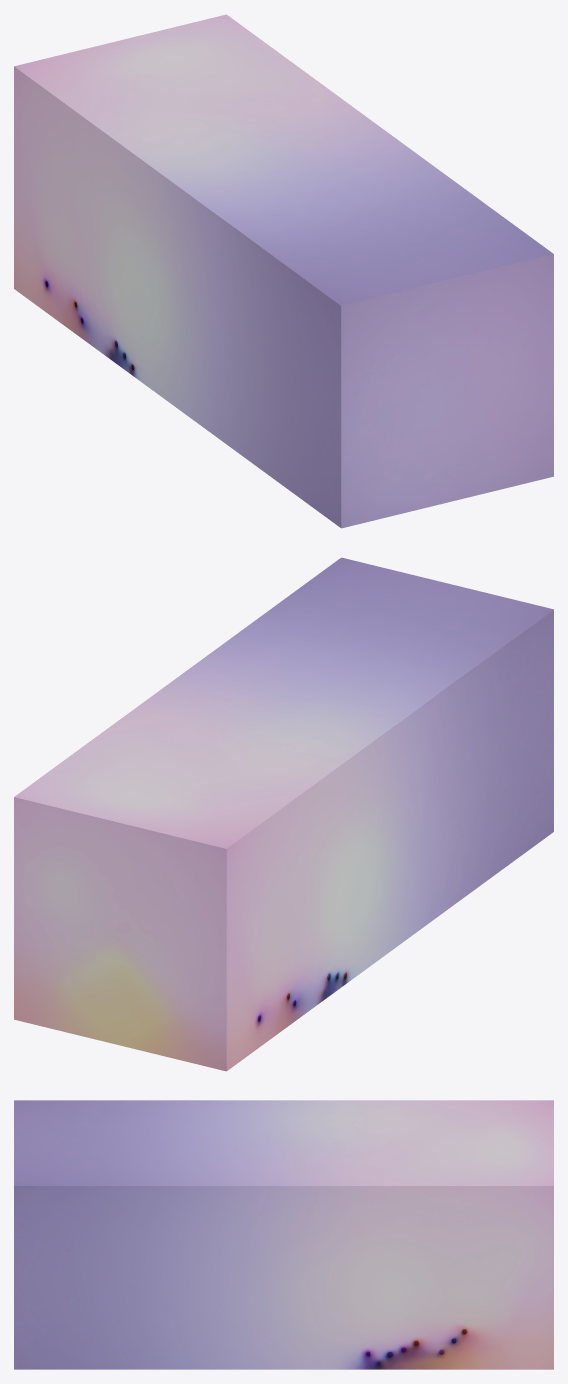
Rendered from Gacha.gltf.
3 views of the same model, one above another, from view 1: azimuth 30°, elevation 25°; view 2: azimuth 150°, elevation 25°; view 3: azimuth 270°, elevation 25° (orthographic). The views are drawn at different scales.
Visible parts, largest first — view 1: Room.001; view 2: Room.001; view 3: Room.001.
Part boxes in pixels (box(x1,y1,x2,y2)): Room.001: box(14, 14, 553, 528); Room.001: box(14, 557, 553, 1071); Room.001: box(14, 1100, 553, 1369).
Bounding box in the file's own units: 6.03 × 6.15 × 16.
Materials: 12 (9 with a texture image).
